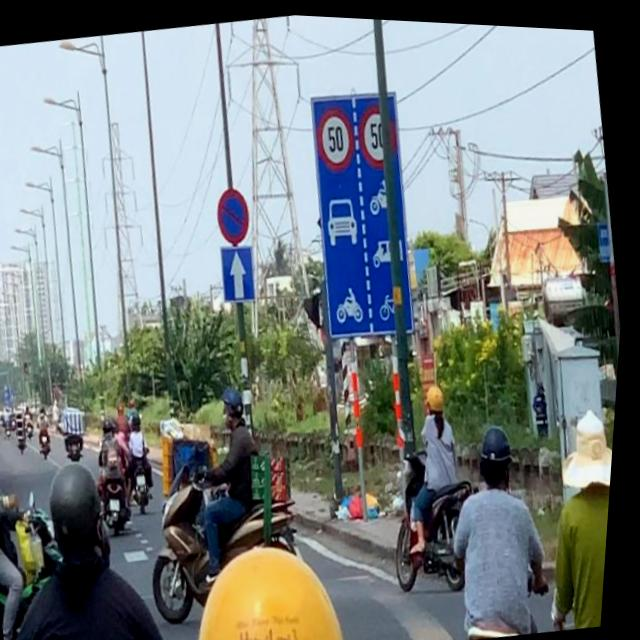Cam do xe: (213, 182, 257, 243)
Duong mot chieu: (219, 238, 265, 305)
